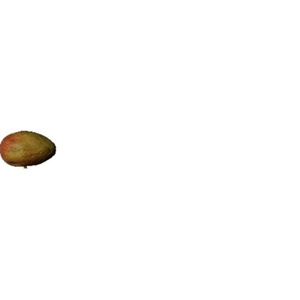mamão: (2, 122, 56, 172)
